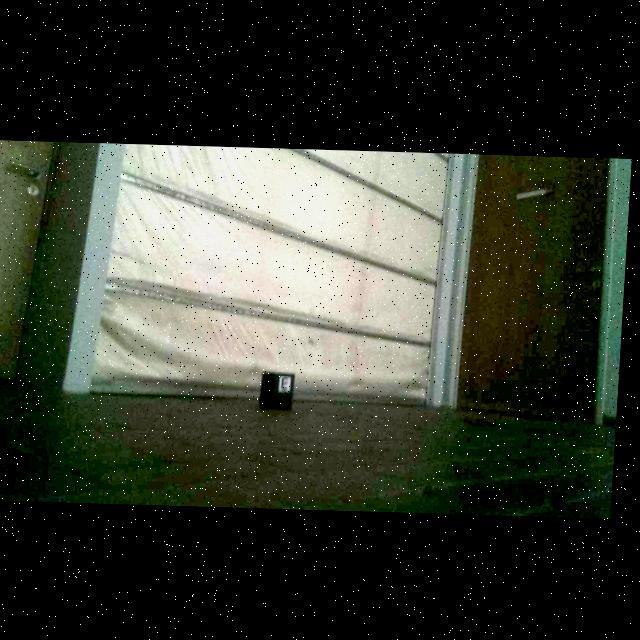E: (286, 375, 293, 388)
